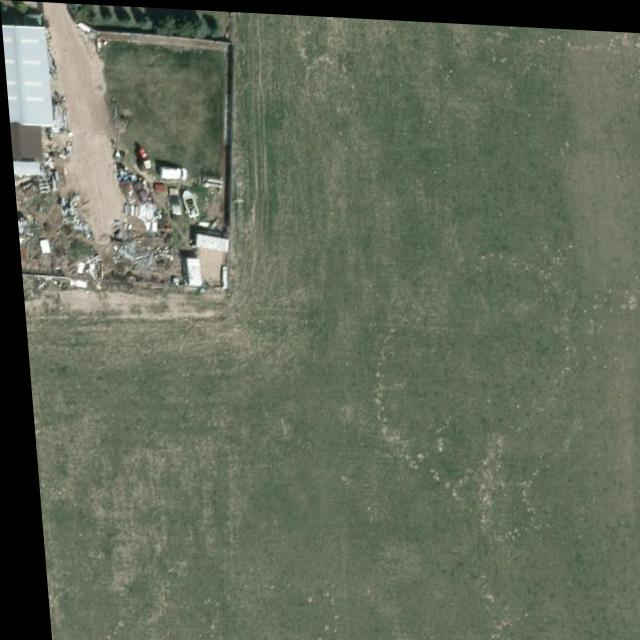vehicle: (155, 164, 187, 180), (165, 184, 179, 217)
